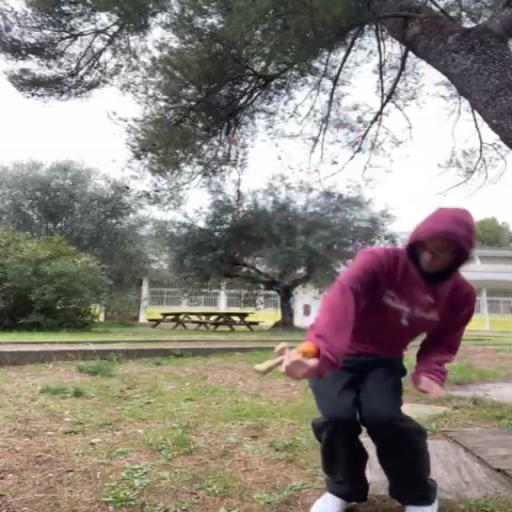kendama_ball: (298, 341, 320, 358)
